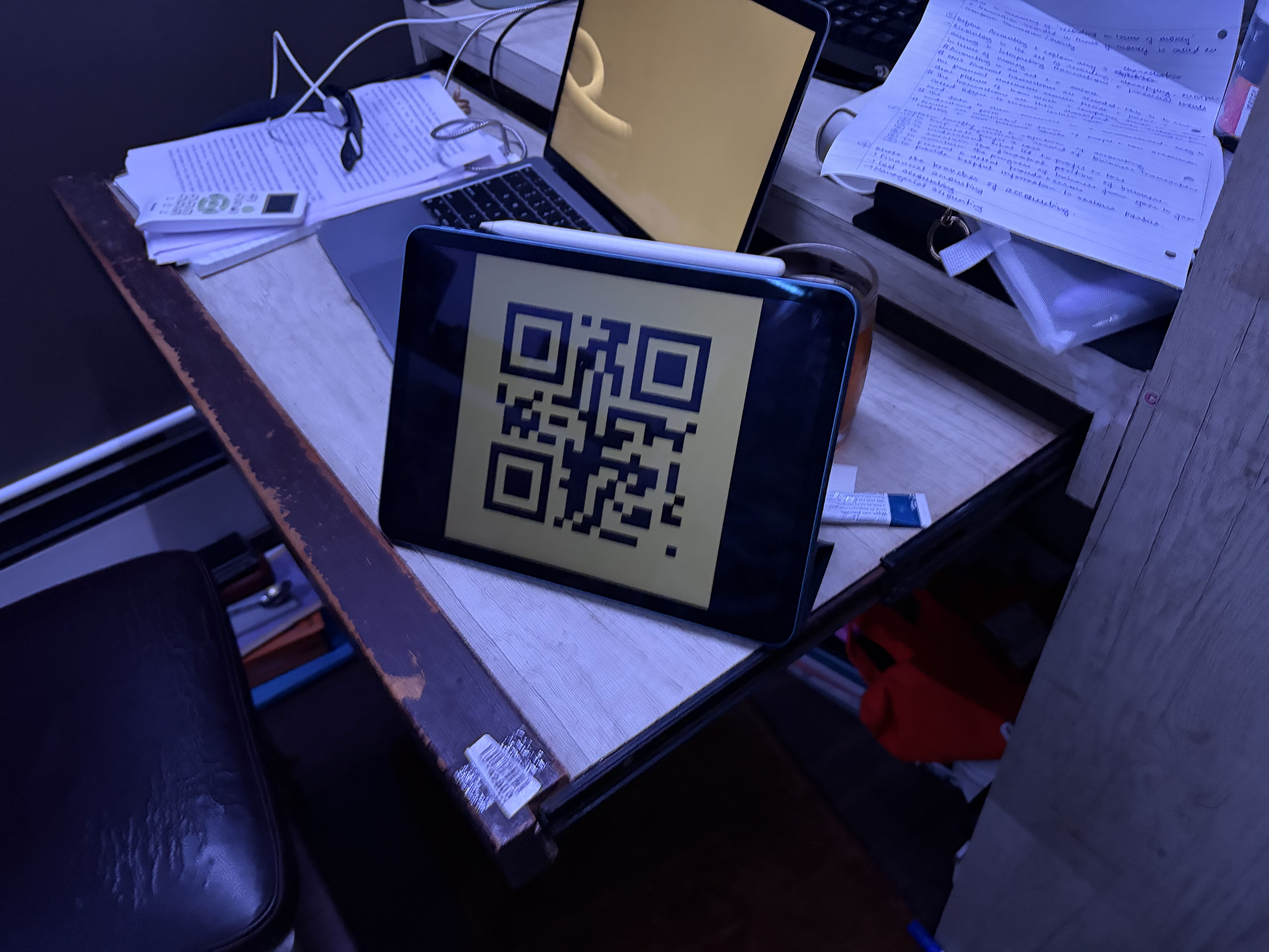QR: (480, 274, 721, 564)
